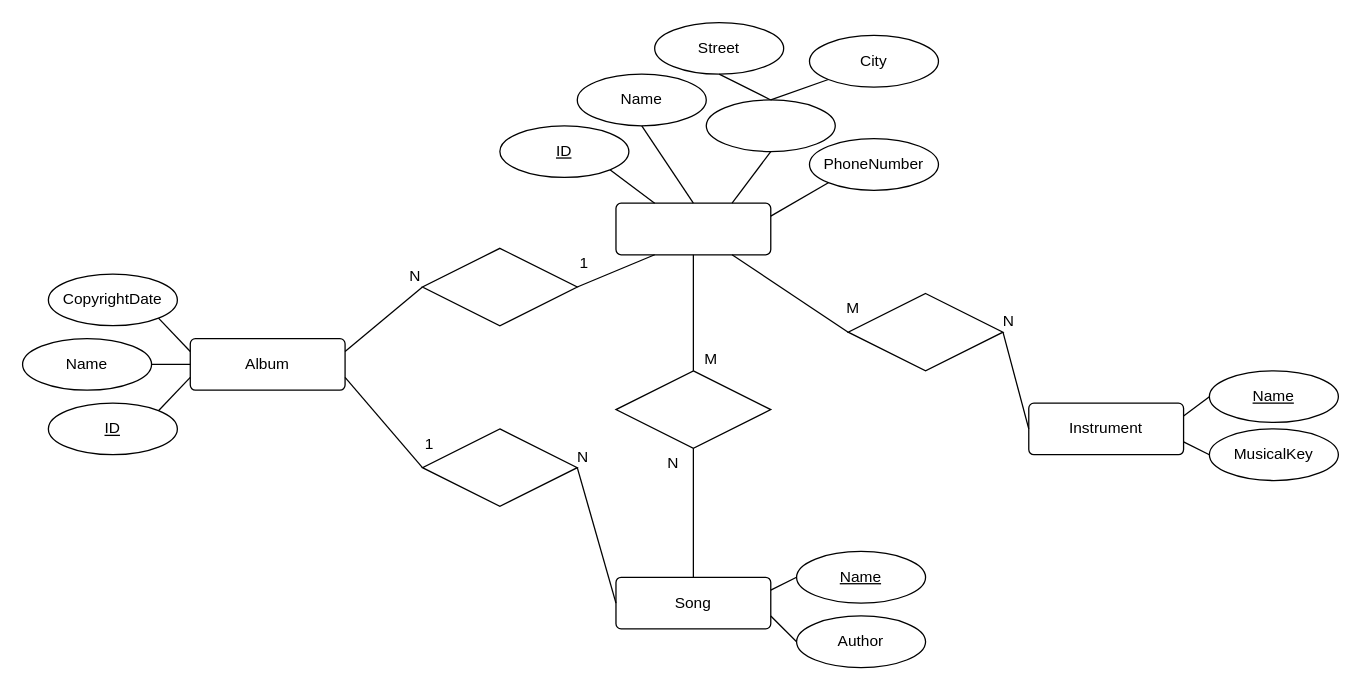
Image size: 1361x690. Some labels were removed from this diagram. The shapes that lost their labels are listed below. From the top down, each one's centre as x and y in pixels, then its label:
pixel 770 125: Address
pixel 693 228: Musician
pixel 499 286: Produce
pixel 925 331: Play
pixel 693 409: Perform
pixel 499 467: Appear
